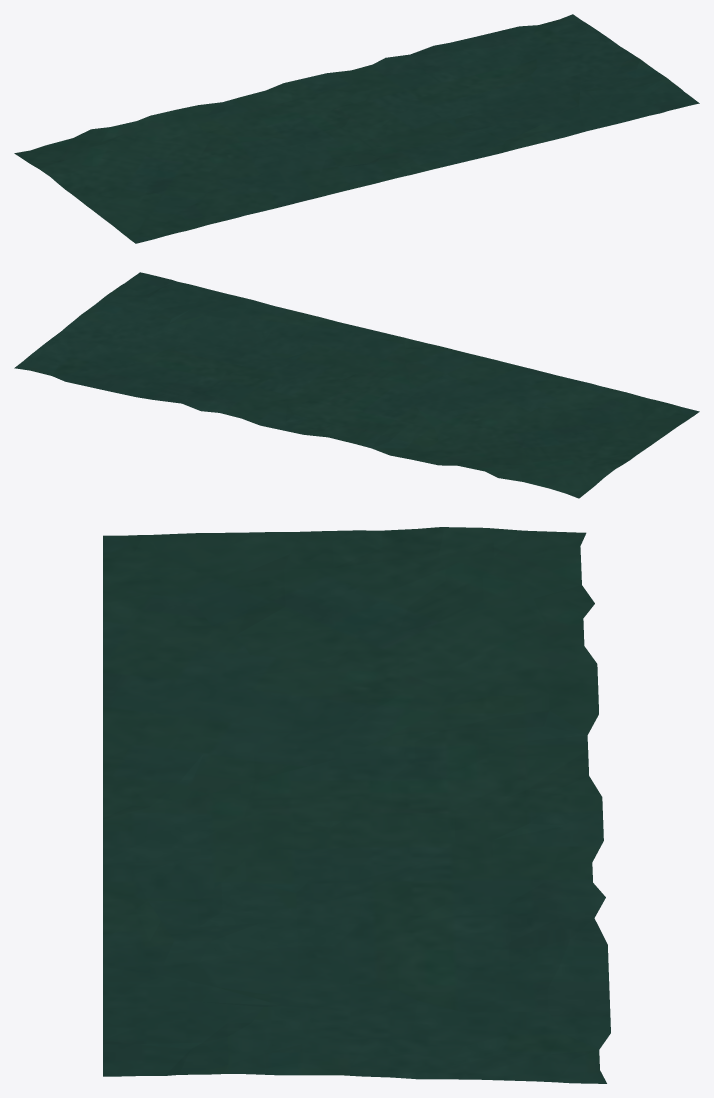
3 views of the same model, one above another, from view 1: azimuth 30°, elevation 25°; view 2: azimuth 150°, elevation 25°; view 3: azimuth 270°, elevation 25° (orthographic). The views are drawn at different scales.
Bounding box in the file's own units: 104 × 1.17 × 41.05.
1 material, 1 textured.
